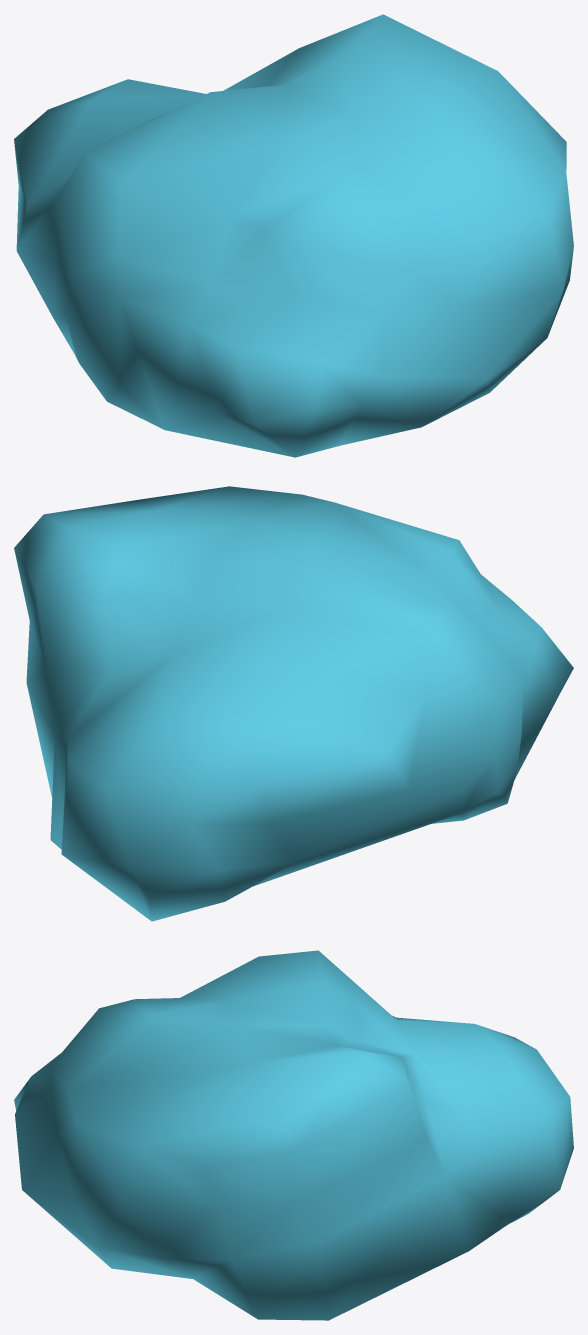
Rendered from rock_08.FBX.
3 renders of one model, top to bottom at view 1: azimuth 30°, elevation 25°; view 2: azimuth 150°, elevation 25°; view 3: azimuth 270°, elevation 25°, orthographic. The views are drawn at different scales.
Parts seen in each view (by area): view 1: rock_08; view 2: rock_08; view 3: rock_08.
Part boxes in pixels (x1=…): rock_08: x1=14, y1=14, x2=573, y2=457; rock_08: x1=14, y1=486, x2=573, y2=921; rock_08: x1=14, y1=950, x2=573, y2=1320.
Bounding box in the file's own units: 37.72 × 23.88 × 44.99.
